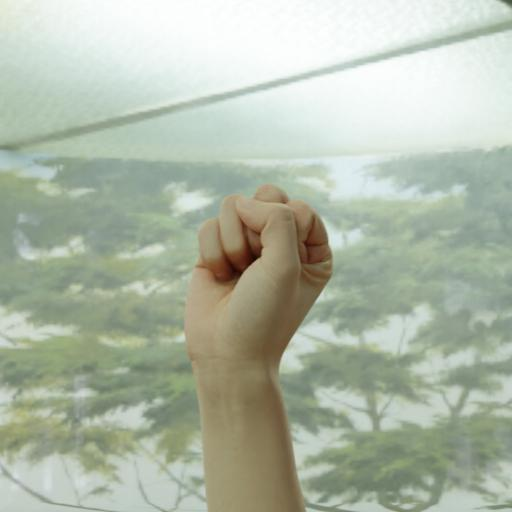S: (166, 143, 371, 438)
